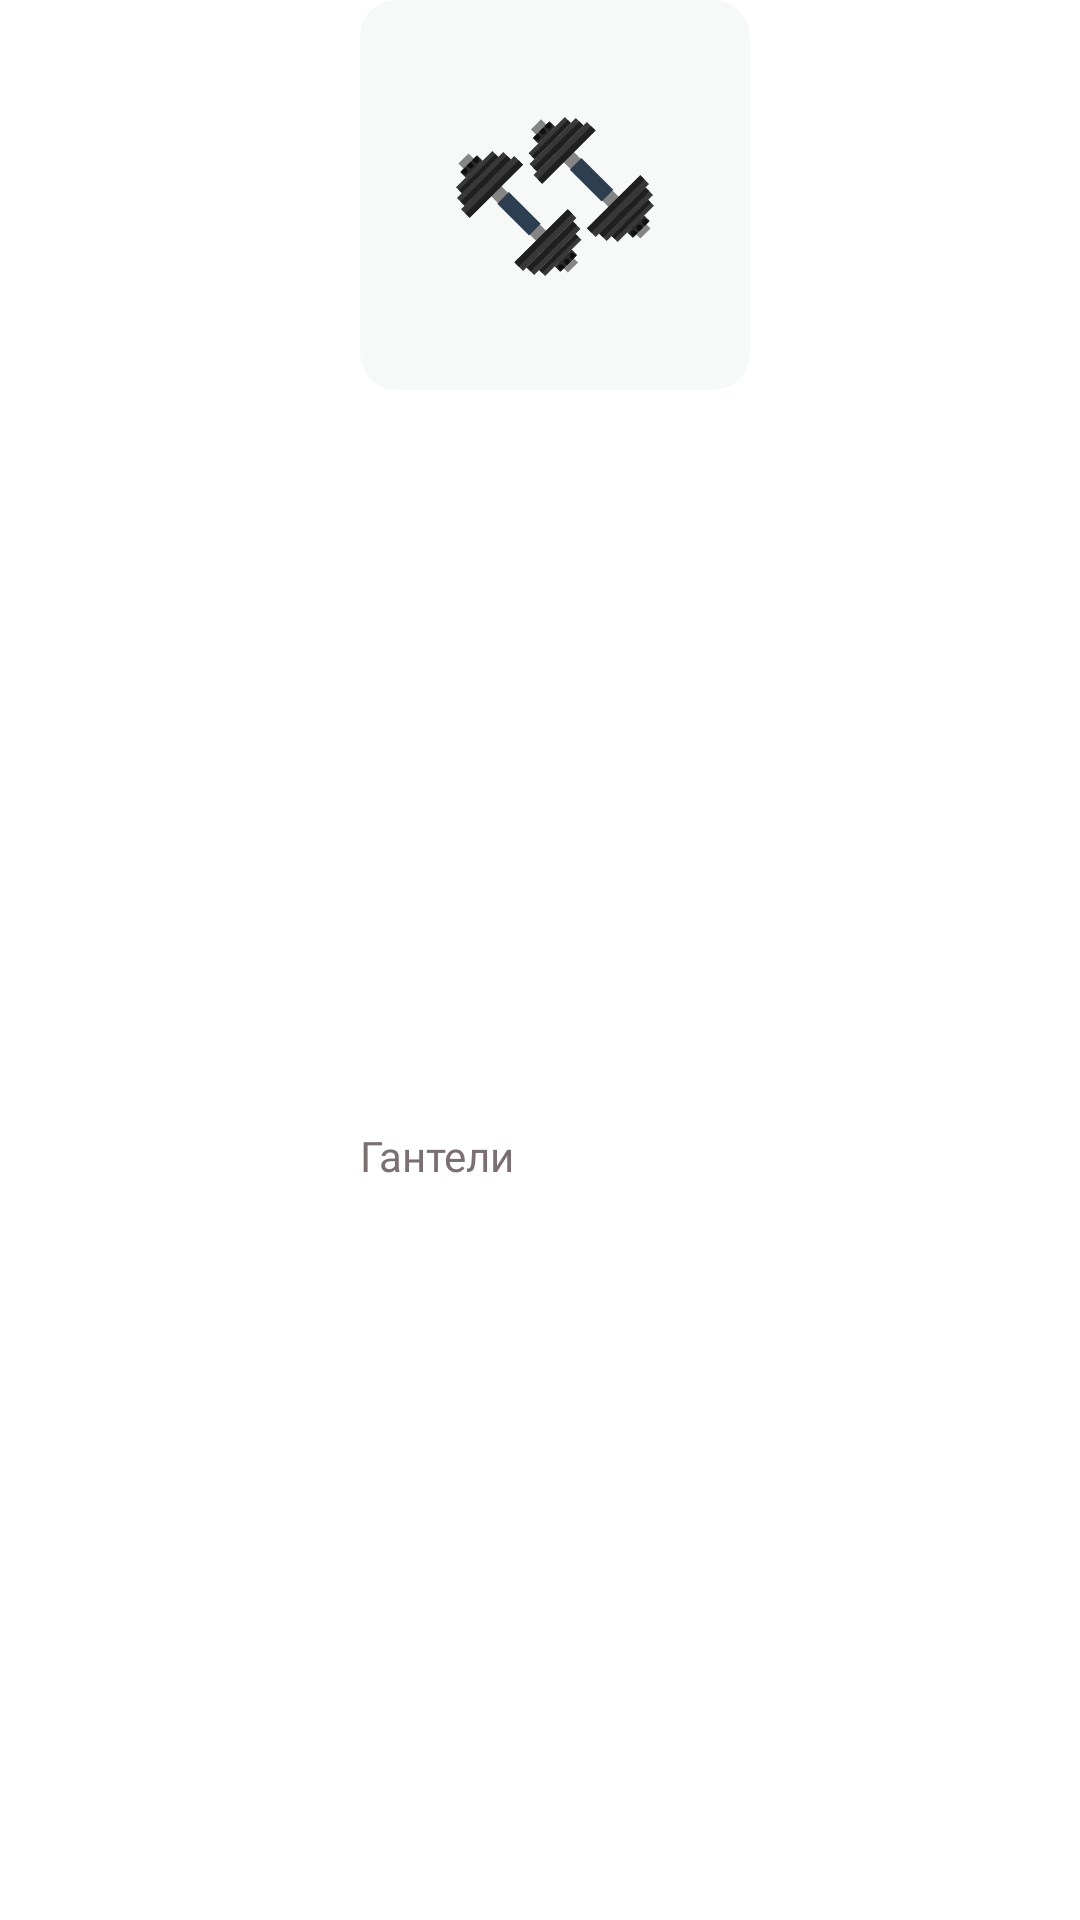

Icons on this 1080×1920 Android screen, each with the point to tap as (x=x, y=y):
barbel item: (x=555, y=196)
